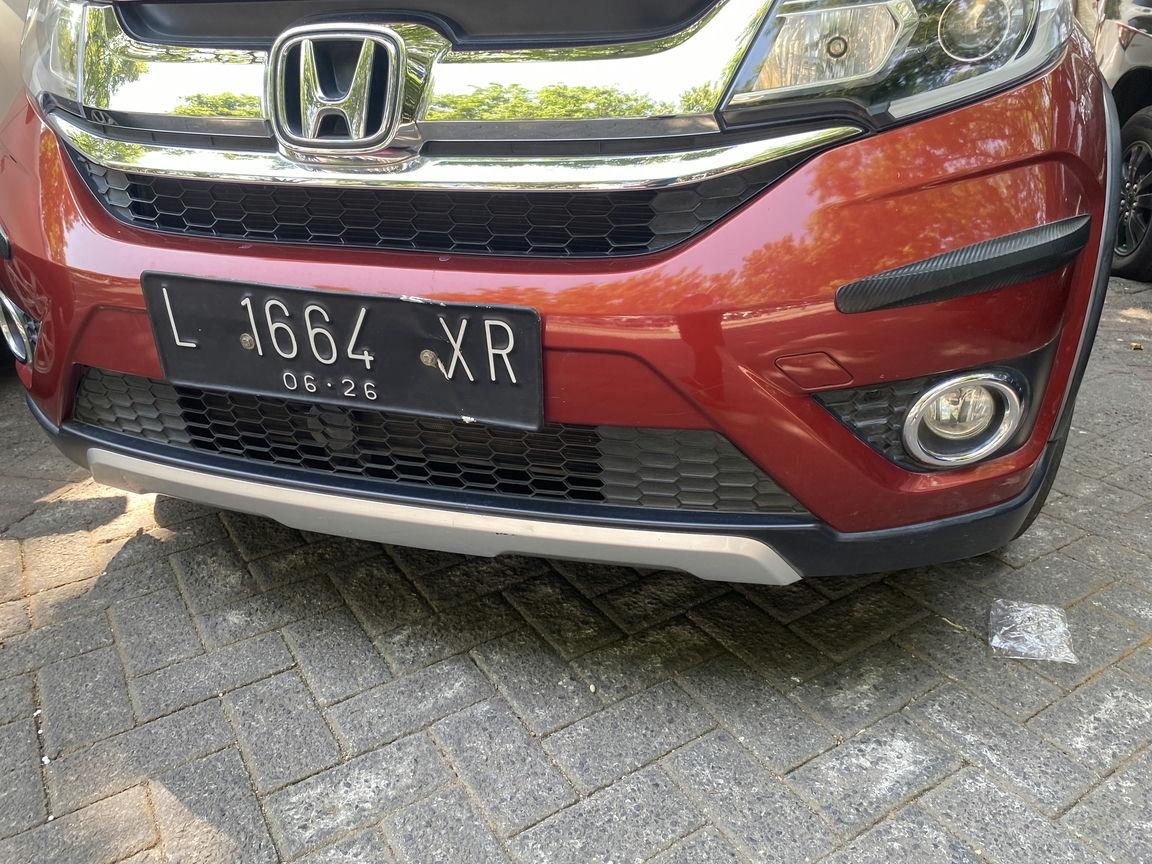plat: (142, 272, 542, 430)
